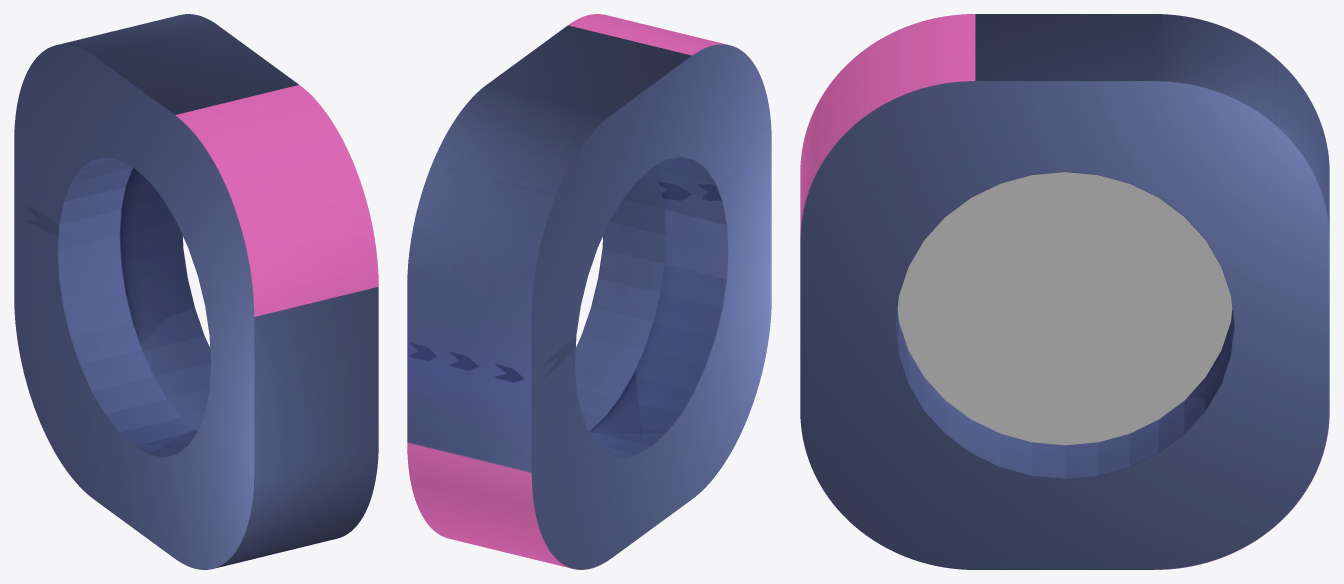
Rendered from stargate1.glb.
3 renders of one model, left to right at view 1: azimuth 30°, elevation 25°; view 2: azimuth 150°, elevation 25°; view 3: azimuth 270°, elevation 25°, orthographic. The views are drawn at different scales.
Visible parts, largest first — view 1: Stargate1; view 2: Stargate1; view 3: Stargate1, WarpPlane.
Boxes of the visible parts, bbox=[...] form: Stargate1: bbox=[14, 14, 378, 569]; Stargate1: bbox=[407, 14, 771, 569]; Stargate1: bbox=[800, 14, 1329, 569]; WarpPlane: bbox=[897, 172, 1232, 445].
Size of the model in its own units: 0.9366 by 3.19 by 3.13.
2 materials, 2 textured.
